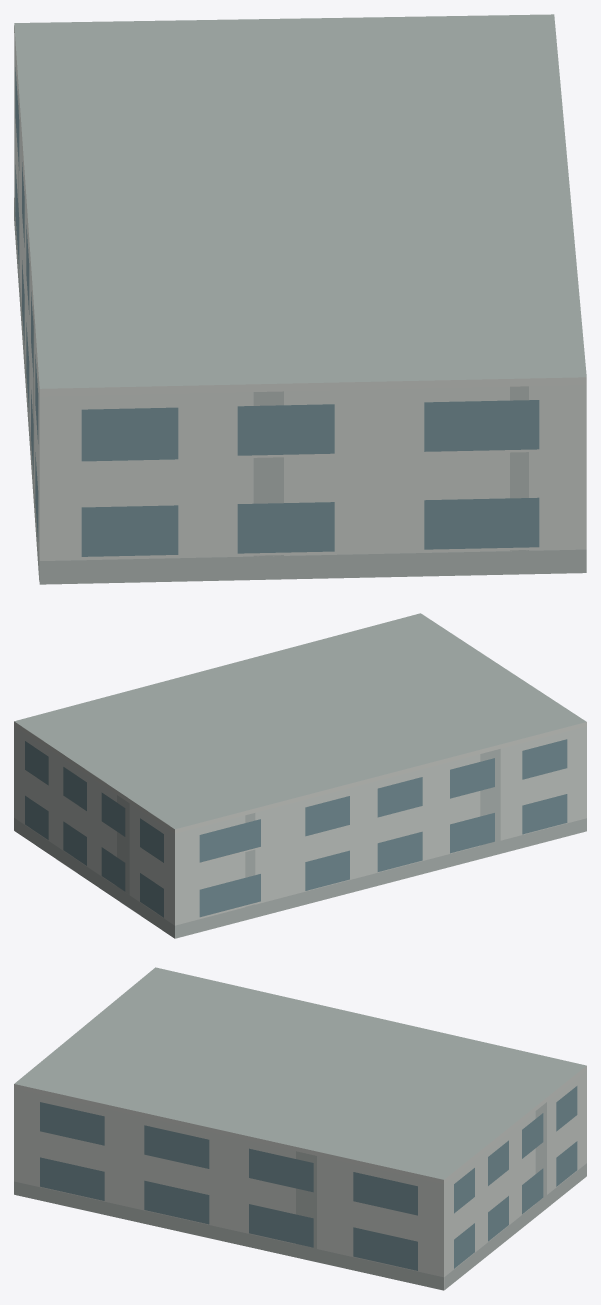
The model's file is survey-upis-32844528.glb.
3 renders of one model, top to bottom at view 1: azimuth 30°, elevation 25°; view 2: azimuth 150°, elevation 25°; view 3: azimuth 270°, elevation 25°, orthographic. The views are drawn at different scales.
Parts seen in each view (by area): view 1: survey-upis-32844528.tmp; view 2: survey-upis-32844528.tmp; view 3: survey-upis-32844528.tmp.
Part boxes in pixels (x1,y1,x2,y2): survey-upis-32844528.tmp: (14, 14, 586, 584); survey-upis-32844528.tmp: (14, 613, 586, 938); survey-upis-32844528.tmp: (14, 967, 586, 1290).
Bounding box in the file's own units: 25.12 × 6.1 × 28.61.
